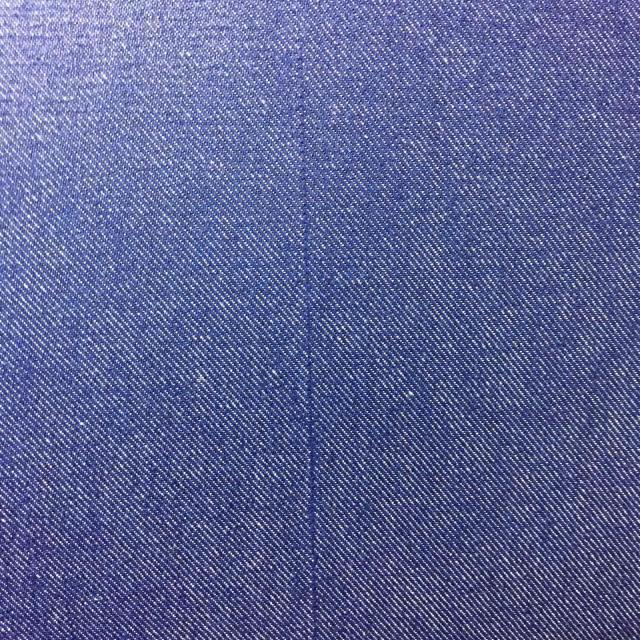Line: (292, 32, 327, 638)
